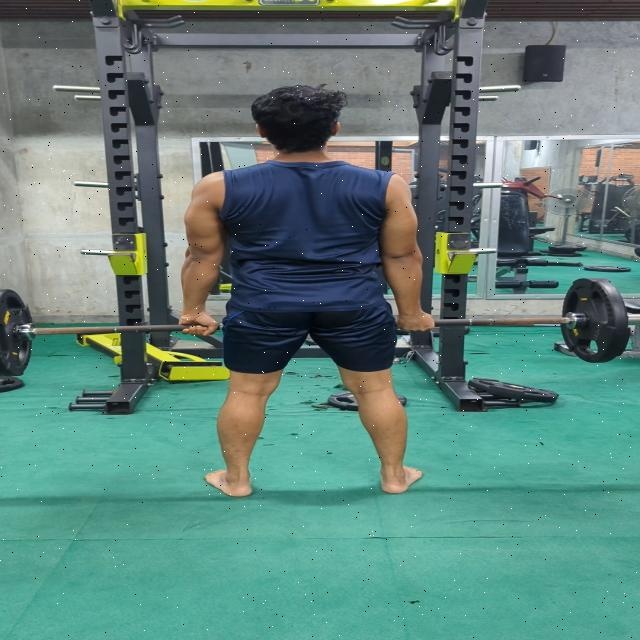Normal_Deadlifts: (171, 84, 442, 499)
